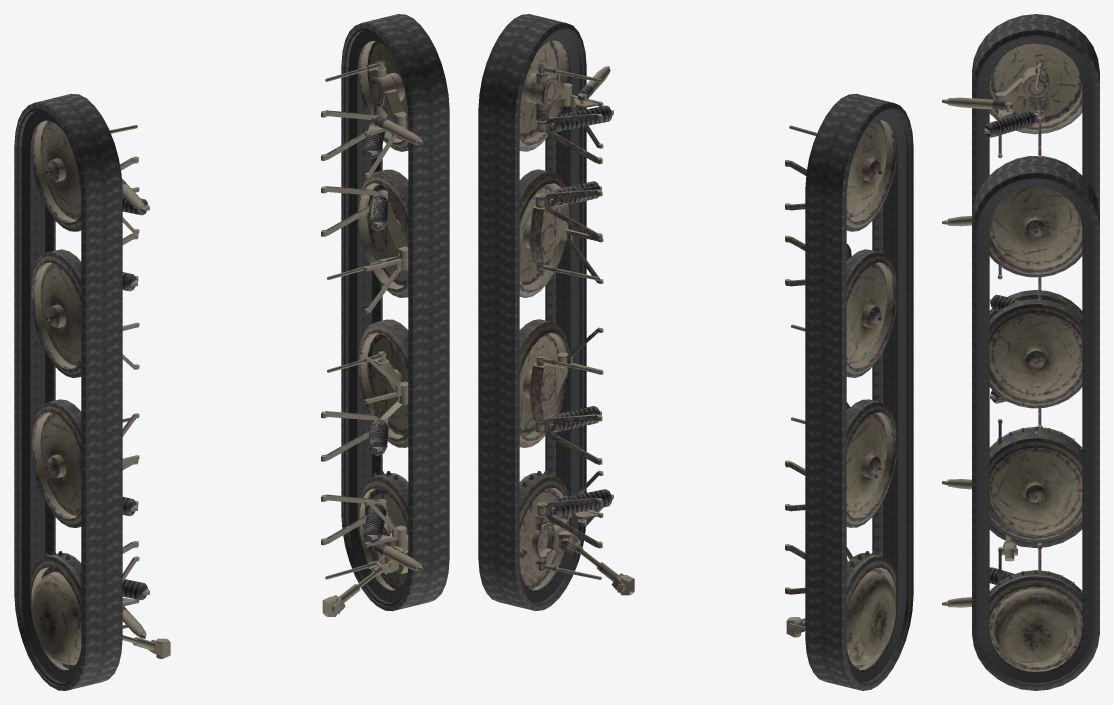
Rendered from Chassis.glb.
The picture shows the model from 3 angles, left to right: view 1: azimuth 30°, elevation 25°; view 2: azimuth 150°, elevation 25°; view 3: azimuth 270°, elevation 25°; orthographic projection. The views are drawn at different scales.
Visible parts, largest first — view 1: set_0_group_0, set_1_group_0, set_3_group_0, set_2_group_0; view 2: set_0_group_0, set_1_group_0, set_3_group_0, set_2_group_0; view 3: set_3_group_0, set_1_group_0, set_2_group_0, set_0_group_0.
Boxes of the visible parts, x1,y1,x2,y2 form: set_0_group_0: (14,93,122,690); set_1_group_0: (341,14,449,611); set_3_group_0: (321,41,423,616); set_2_group_0: (31,120,170,669); set_0_group_0: (805,93,913,690); set_1_group_0: (478,14,586,610); set_3_group_0: (519,40,634,595); set_2_group_0: (785,120,896,669); set_3_group_0: (942,186,1082,671); set_1_group_0: (972,157,1099,690); set_2_group_0: (942,43,1082,561); set_0_group_0: (972,14,1099,547).
Size of the model in its own units: 2.41 by 3.6 by 0.9937.
Materials: 4 (4 with a texture image).
